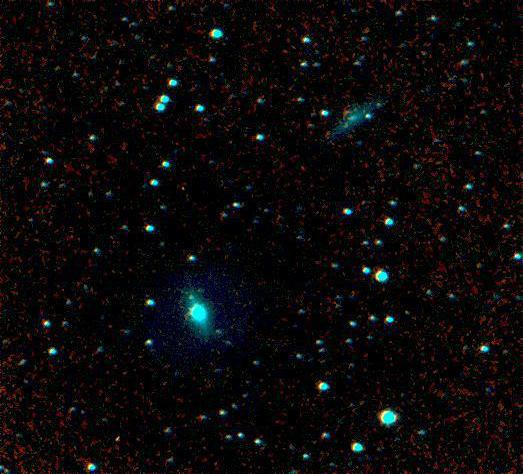star: (100, 423, 130, 453)
